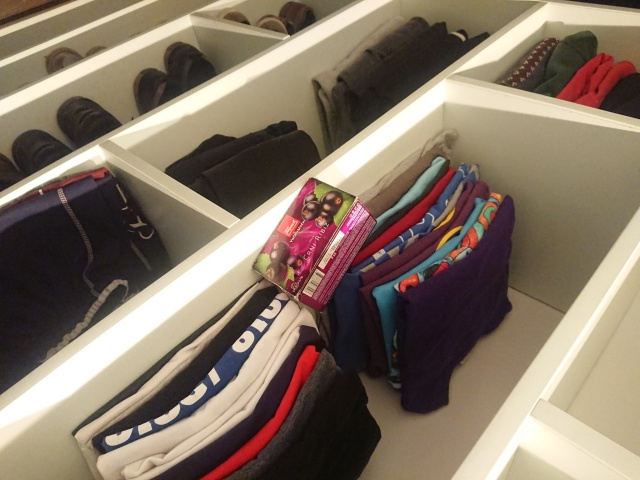Franck Black Currant Tea 60g: (249, 174, 379, 316)
